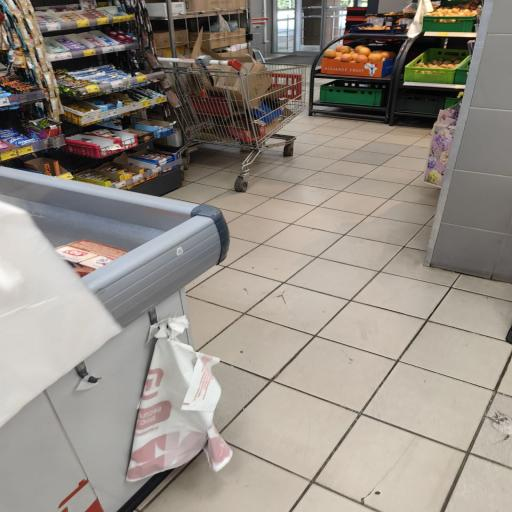shopping_cart: (157, 56, 308, 193)
